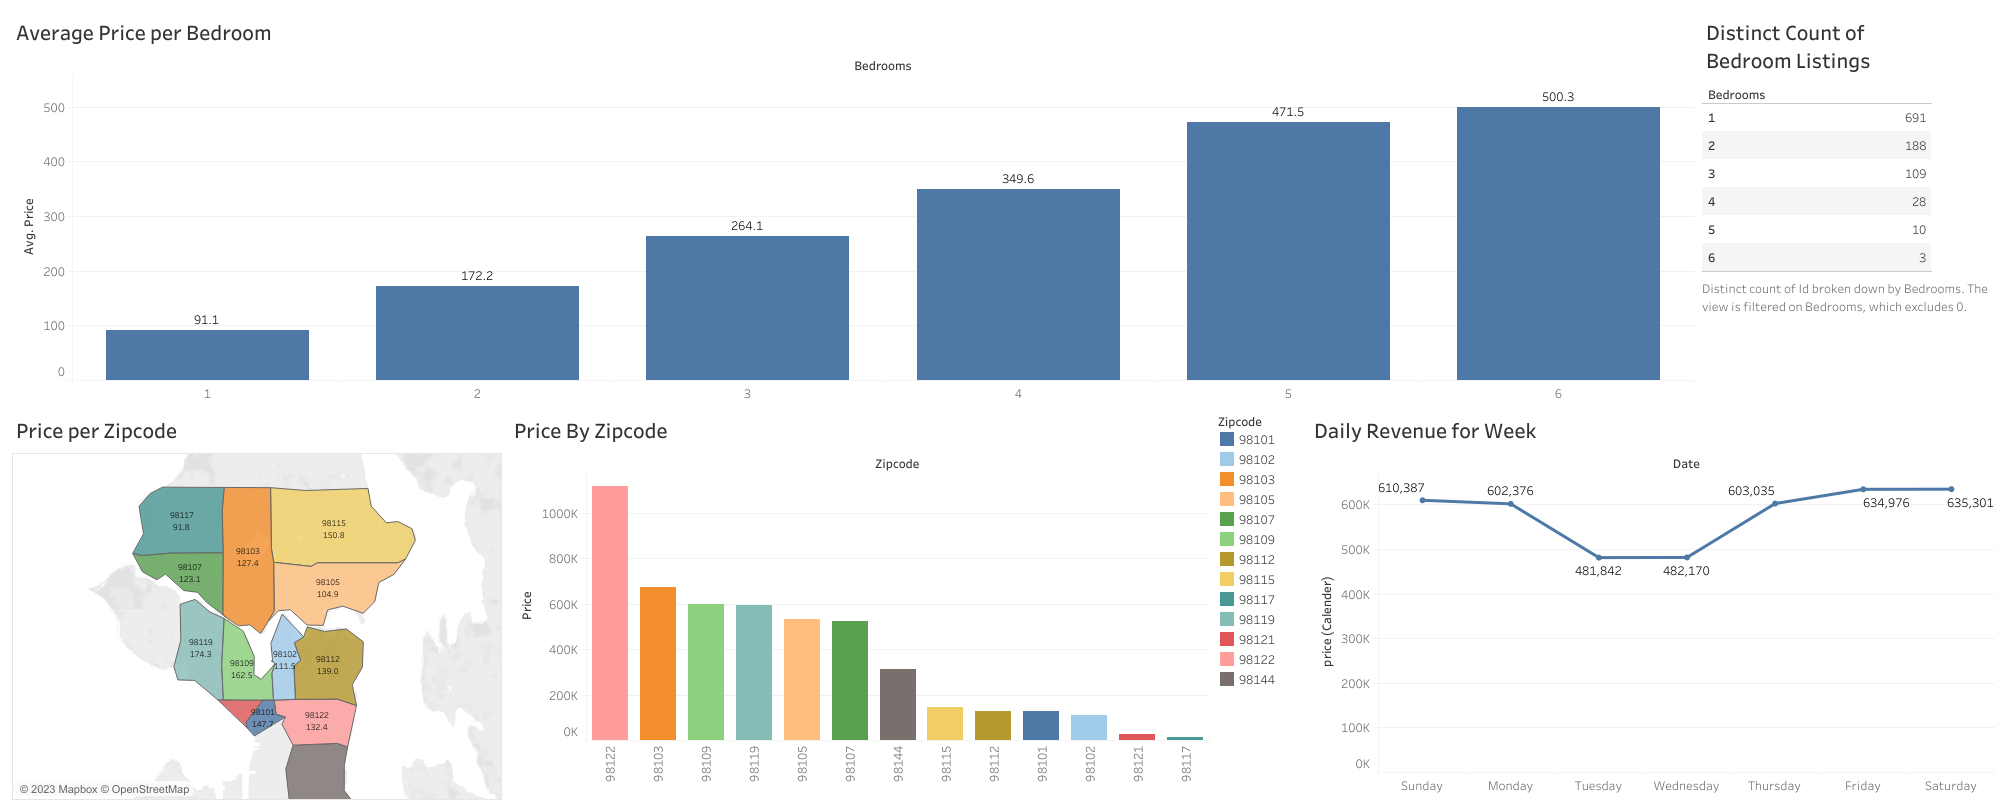

This screenshot's page, from the dashboard's own definition file:
{"tool":"tableau","page":{"name":"Dashboard 1","canvas":[1000,1000],"units":"permille","ordinal":0},"visuals":[{"type":"worksheet","title":"Sheet 4","mark":"Automatic","rows":["price"],"cols":["bedrooms"],"box":[4.8,9.3,840.6,490.7]},{"type":"worksheet","title":"Sheet 5","mark":"Automatic","rows":["bedrooms"],"box":[845.4,9.3,149.8,490.7]},{"type":"worksheet","title":"Sheet 2","mark":"Multipolygon","box":[4.8,500,247.6,490.7]},{"type":"worksheet","title":"Sheet 1","mark":"Automatic","rows":["price"],"cols":["zipcode"],"box":[252.4,500,351.7,490.7]},{"type":"legend","title":"Sheet 1","param":"[federated.161toir1n3ub2z19uj8ak0yjai1b].[none:zipcode:ok]","box":[604.1,500,46.5,490.7]},{"type":"worksheet","title":"Sheet 3","mark":"Automatic","rows":["price (Calender)"],"cols":["date"],"box":[650.6,500,344.6,490.7]}]}

Visuals, with their boxes on the dashboard's canvas, which has no fixed pixel size, in thousandths of its width and height (x1, y1, x2, y2). These are canvas units, not pixel positions in the 2006x811 screenshot, which may show the page scaled, cropped or inside an application window:
"Sheet 4" worksheet: (5, 9, 845, 500)
"Sheet 5" worksheet: (845, 9, 995, 500)
"Sheet 2" worksheet (Multipolygon marks): (5, 500, 252, 991)
"Sheet 1" worksheet: (252, 500, 604, 991)
"Sheet 1" legend: (604, 500, 651, 991)
"Sheet 3" worksheet: (651, 500, 995, 991)
